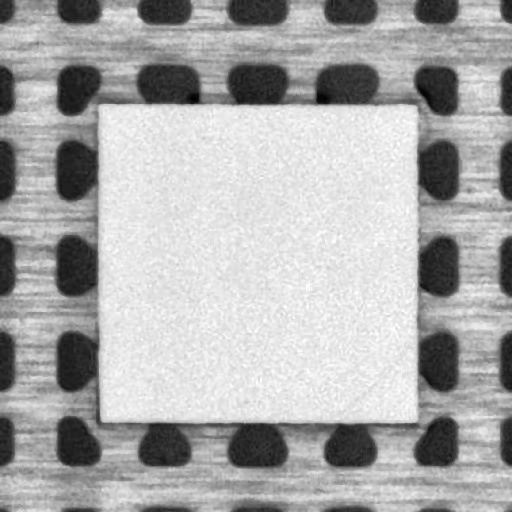DIE_CRACK: (339, 343, 409, 416)
